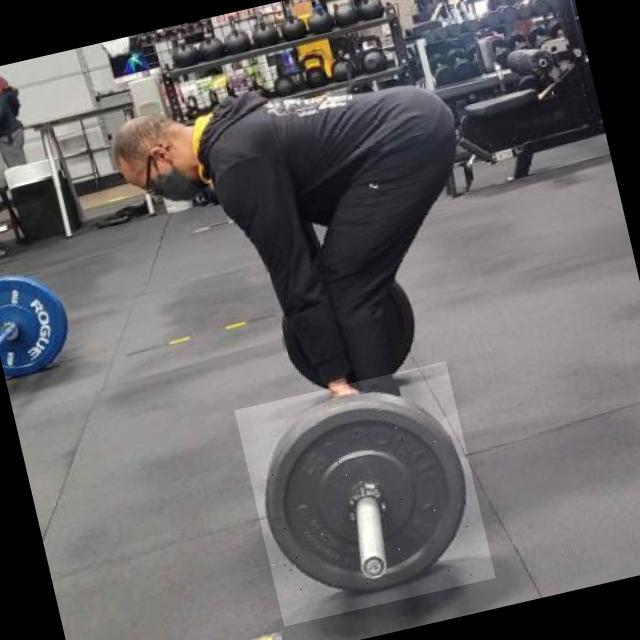barbell: (235, 362, 496, 627)
